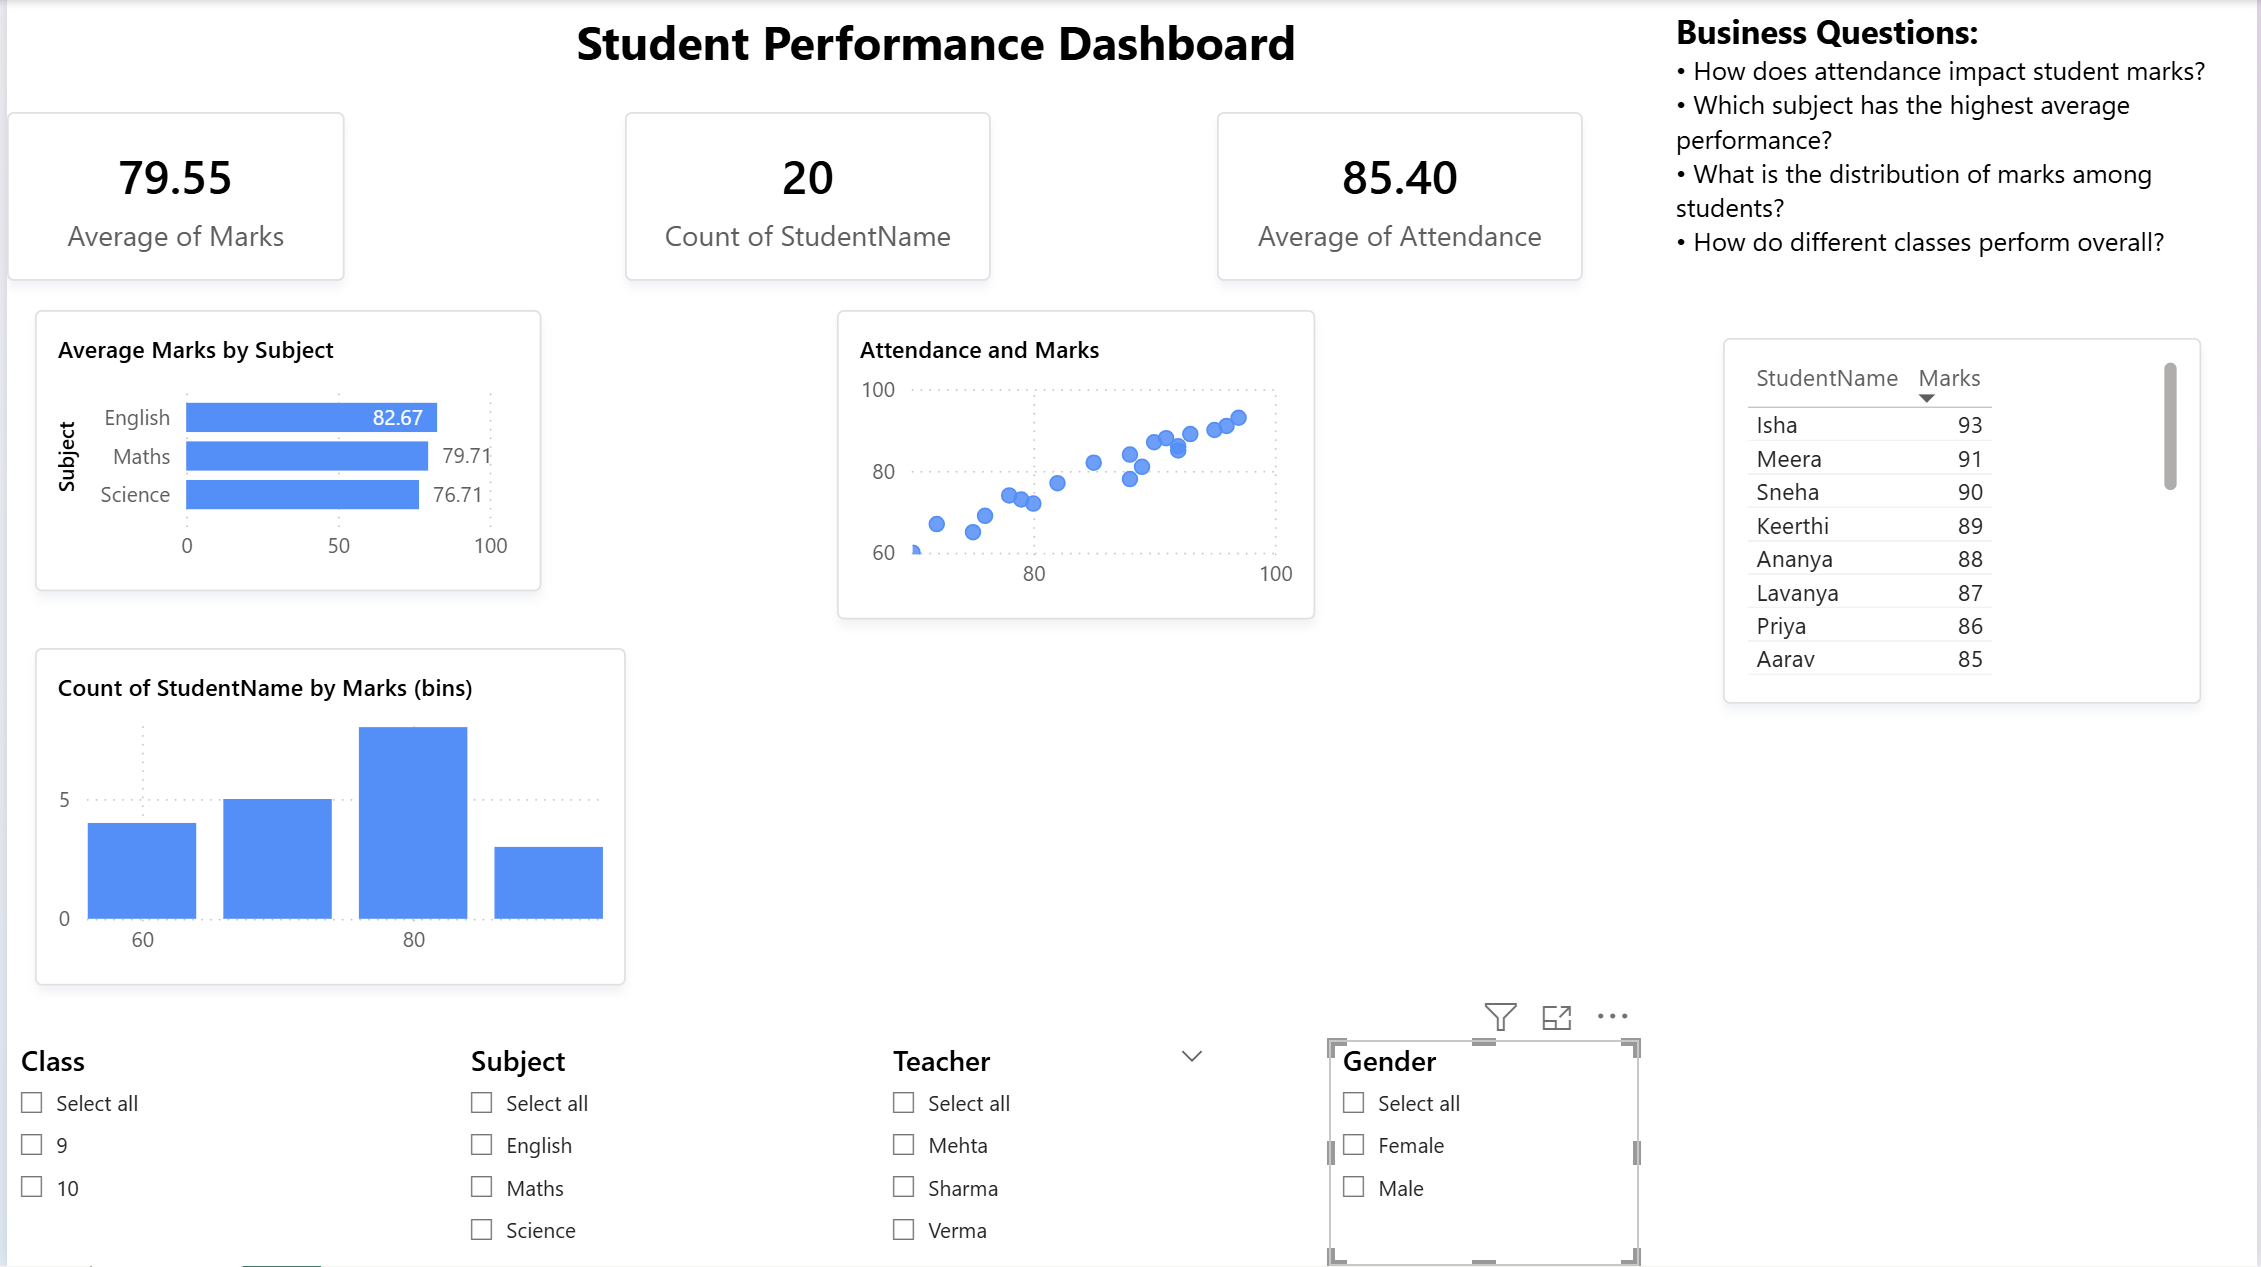

What the dashboard file says about the page in this screenshot:
{"tool":"powerbi","page":{"name":"Page 1","canvas":[1280,720],"ordinal":0},"visuals":[{"type":"card","fields":{"Values":["Avg(Sheet1.Marks)"]},"box":[0,64,192,80],"z":0},{"type":"card","fields":{"Values":["CountNonNull(Sheet1.StudentName)"]},"box":[360,64,192,80],"z":1},{"type":"card","fields":{"Values":["Avg(Sheet1.Attendance)"]},"box":[688,64,208,80],"z":2},{"type":"clusteredBarChart","title":"Average Marks by Subject","fields":{"Category":["Sheet1.Subject"],"Y":["Avg(Sheet1.Marks)"]},"box":[16,176,288,160],"z":3},{"type":"tableEx","fields":{"Values":["Sheet1.StudentName","Sheet1.Marks"]},"box":[976,192,272,208],"z":4},{"type":"scatterChart","fields":{"X":["Sheet1.Attendance"],"Y":["Sheet1.Marks"]},"box":[472,176,272,176],"z":5},{"type":"clusteredColumnChart","fields":{"Y":["CountNonNull(Sheet1.StudentName)"],"Category":["Sheet1.Marks (bins)"]},"box":[16,368,336,192],"z":6},{"type":"slicer","fields":{"Values":["Sheet1.Class"]},"box":[0,592,176,128],"z":7},{"type":"slicer","fields":{"Values":["Sheet1.Subject"]},"box":[256,592,176,128],"z":8},{"type":"slicer","fields":{"Values":["Sheet1.Teacher"]},"box":[496,592,192,128],"z":9},{"type":"slicer","fields":{"Values":["Sheet1.Gender"]},"box":[752,592,176,128],"z":10},{"type":"textbox","box":[128,0,800,48],"z":11},{"type":"textbox","box":[944,0,320,176],"z":12}]}

Visuals, with their boxes in screenshot pixels (x1, y1, x2, y2), scaled from the page's 1280x720 canvas onto the 2261x1267 screenshot:
card - Avg(Sheet1.Marks): <bbox>0, 113, 339, 253</bbox>
card - CountNonNull(Sheet1.StudentName): <bbox>636, 113, 975, 253</bbox>
card - Avg(Sheet1.Attendance): <bbox>1215, 113, 1583, 253</bbox>
"Average Marks by Subject" clusteredBarChart: <bbox>28, 310, 537, 591</bbox>
tableEx - Sheet1.StudentName x Sheet1.Marks: <bbox>1724, 338, 2204, 704</bbox>
scatterChart - Sheet1.Attendance x Sheet1.Marks: <bbox>834, 310, 1314, 619</bbox>
clusteredColumnChart - CountNonNull(Sheet1.StudentName) x Sheet1.Marks (bins): <bbox>28, 648, 622, 985</bbox>
slicer - Sheet1.Class: <bbox>0, 1042, 311, 1266</bbox>
slicer - Sheet1.Subject: <bbox>452, 1042, 763, 1266</bbox>
slicer - Sheet1.Teacher: <bbox>876, 1042, 1215, 1266</bbox>
slicer - Sheet1.Gender: <bbox>1328, 1042, 1639, 1266</bbox>
textbox: <bbox>226, 0, 1639, 84</bbox>
textbox: <bbox>1667, 0, 2233, 310</bbox>
